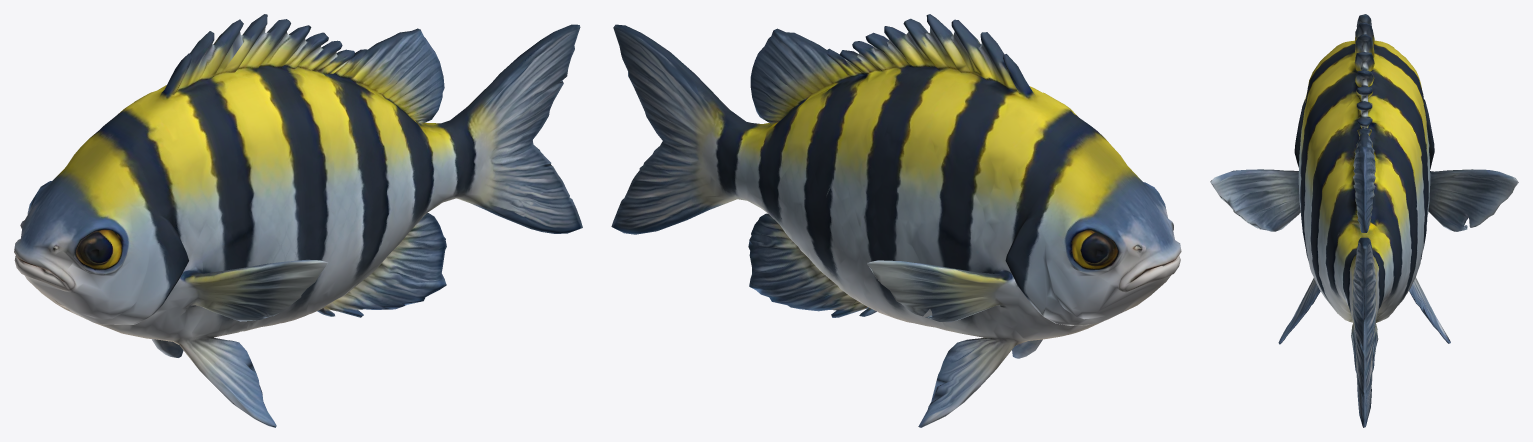
The model's file is fish-serzhant.glb.
3 views of the same model, side by side, from view 1: azimuth 30°, elevation 25°; view 2: azimuth 150°, elevation 25°; view 3: azimuth 270°, elevation 25° (orthographic). The views are drawn at different scales.
Visible parts, largest first — view 1: tripo_node_99beaf5c-7389-4248-b22d-40442b5e463b; view 2: tripo_node_99beaf5c-7389-4248-b22d-40442b5e463b; view 3: tripo_node_99beaf5c-7389-4248-b22d-40442b5e463b.
Part boxes in pixels (x1,y1,x2,y2): tripo_node_99beaf5c-7389-4248-b22d-40442b5e463b: [14, 14, 582, 427]; tripo_node_99beaf5c-7389-4248-b22d-40442b5e463b: [611, 14, 1181, 427]; tripo_node_99beaf5c-7389-4248-b22d-40442b5e463b: [1210, 14, 1518, 427].
Size of the model in its own units: 0.9993 by 0.6271 by 0.5346.
1 material, 1 textured.
